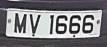1: (45, 14, 56, 37)
6: (54, 14, 69, 37), (81, 13, 95, 37), (68, 14, 82, 36)
M: (13, 13, 27, 37)
V: (29, 13, 42, 37)
